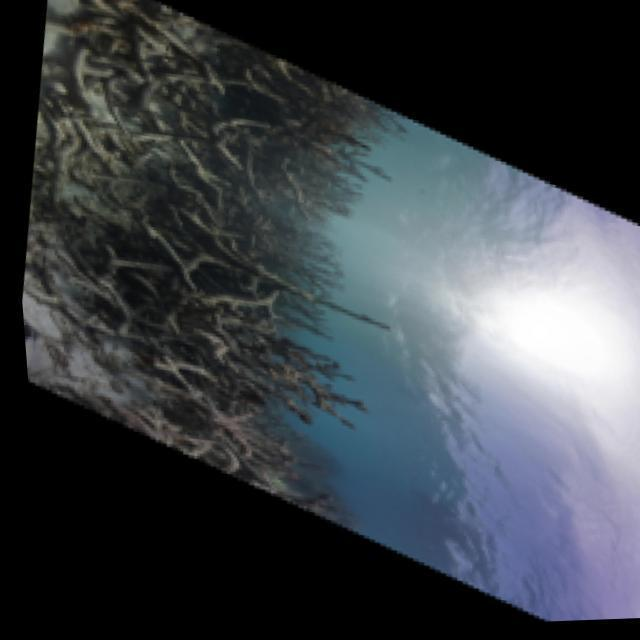Dead Coral: (35, 191, 357, 480), (109, 29, 415, 260)
